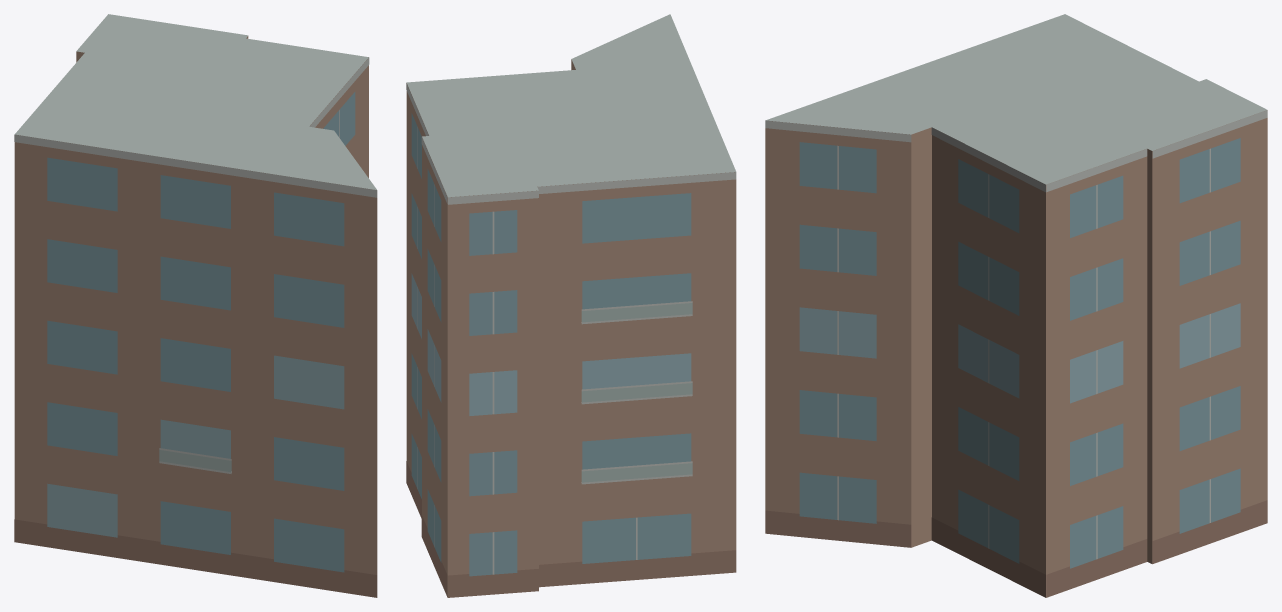
File: survey-upis-32499314.glb
3 renders of one model, left to right at view 1: azimuth 30°, elevation 25°; view 2: azimuth 150°, elevation 25°; view 3: azimuth 270°, elevation 25°, orthographic. The views are drawn at different scales.
Parts seen in each view (by area): view 1: survey-upis-32499314.tmp; view 2: survey-upis-32499314.tmp; view 3: survey-upis-32499314.tmp.
Part boxes in pixels (x1,y1,x2,y2): survey-upis-32499314.tmp: (14,14,377,597); survey-upis-32499314.tmp: (406,14,736,597); survey-upis-32499314.tmp: (765,14,1267,597).
Size of the model in its own units: 11.53 by 13 by 14.33.
